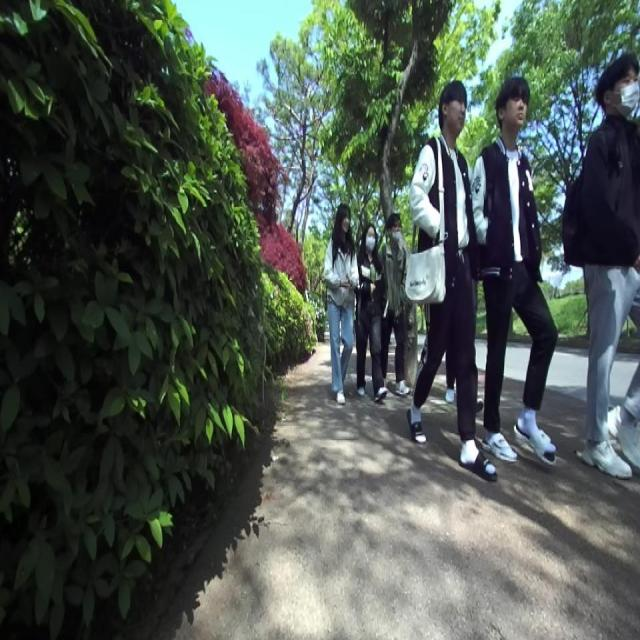sidewalk: (155, 343, 640, 640)
